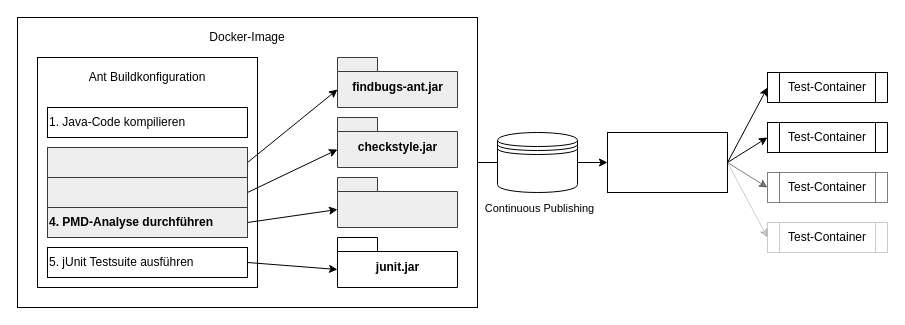
The diagram is 905 pixels wide and 325 high, and some of its shapes have lost their labels. The shapes that lost their labels are listed below. From the top down, each one's centre as x and y in pixels, then its label:
At [147,162]: "2. FindBugs-Analyse durchführen".
At [537,162]: "Aufgaben- Repository".
At [667,162]: "TestRunner".
At [147,192]: "3. Checkstyle-Analyse durchführen".
At [397,202]: "PMD Binärpaket inkl. jar".
